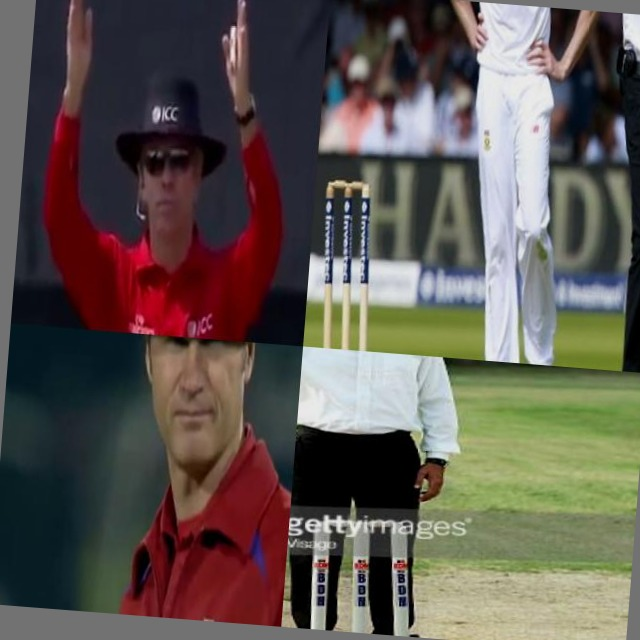No_Action: (56, 329, 303, 627)
No_Ball: (281, 346, 522, 640), (470, 4, 640, 373)
Six: (17, 0, 311, 345)
